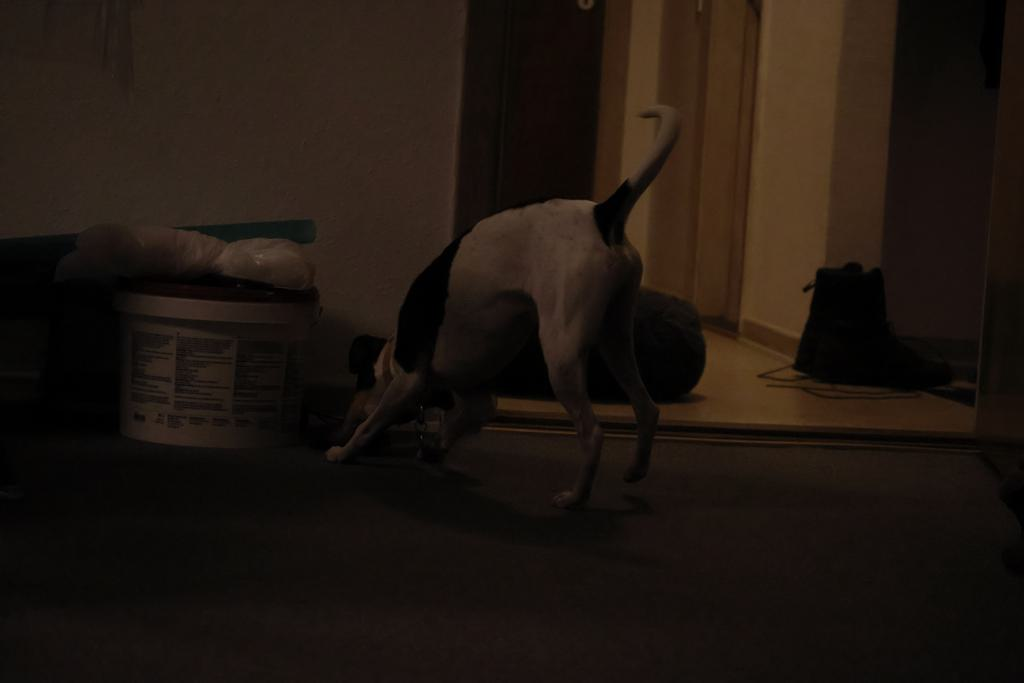Dog: (316, 95, 694, 520)
